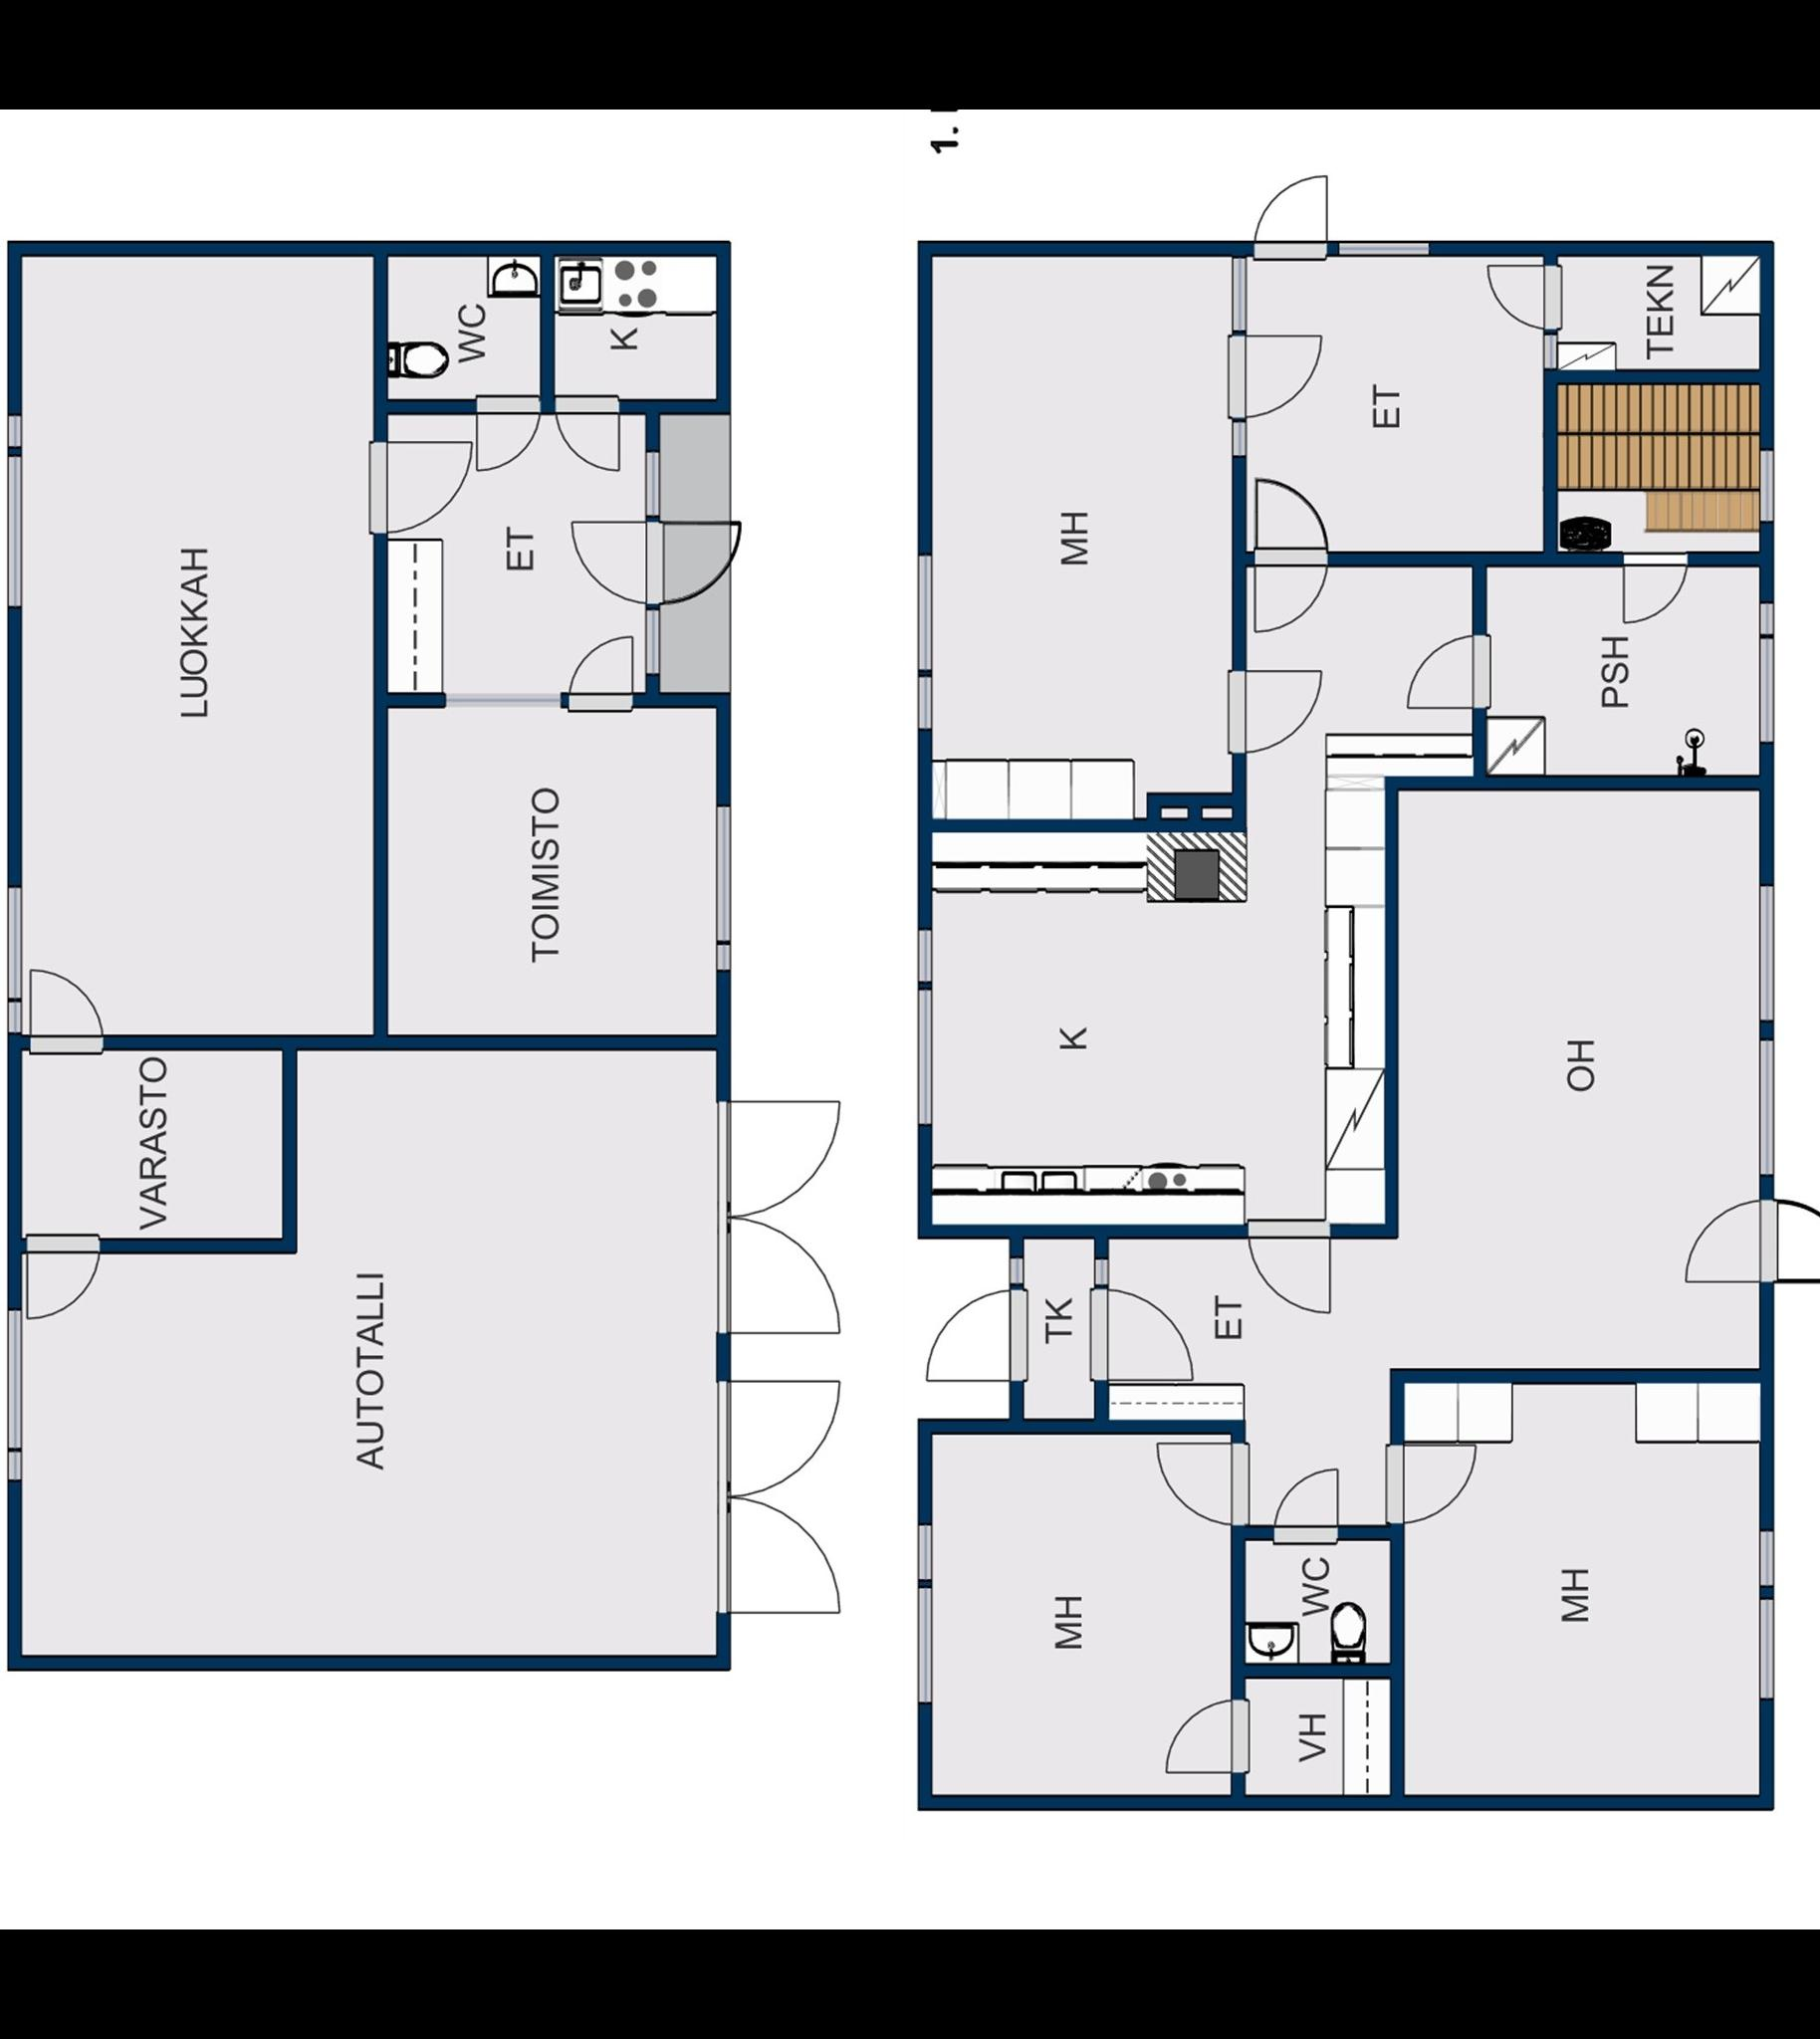bathroom: (385, 248, 539, 404), (1240, 1531, 1398, 1672)
door: (704, 1087, 849, 1224), (704, 1488, 841, 1626), (696, 1372, 840, 1502), (713, 1207, 847, 1345), (921, 1275, 1040, 1386), (353, 432, 474, 541), (1073, 1286, 1189, 1394), (631, 515, 745, 611), (1151, 1686, 1254, 1791), (1142, 1433, 1249, 1535), (1672, 1198, 1785, 1293), (1377, 1431, 1479, 1535), (566, 509, 668, 611), (1235, 1221, 1333, 1326), (7, 1224, 104, 1331), (1216, 659, 1323, 755), (1221, 325, 1319, 423), (1246, 174, 1342, 270), (25, 952, 109, 1063), (1393, 629, 1493, 718), (1240, 546, 1340, 634), (553, 629, 645, 722), (1606, 543, 1701, 630), (1249, 467, 1332, 564), (1748, 1184, 1820, 1294), (1268, 1465, 1351, 1549), (1486, 255, 1564, 344), (557, 381, 625, 478), (473, 399, 548, 464)
perimeter: (919, 237, 1785, 1814), (4, 234, 736, 1674)
window: (1744, 857, 1785, 1041), (1748, 1010, 1785, 1187), (903, 541, 945, 681), (699, 801, 740, 945), (1748, 1584, 1790, 1709), (429, 681, 569, 718), (0, 443, 28, 616), (903, 1575, 936, 1719), (908, 980, 935, 1140), (0, 1298, 26, 1456), (1751, 625, 1785, 750), (0, 868, 28, 1008), (1319, 228, 1437, 262), (1748, 430, 1780, 546), (1216, 242, 1253, 339), (1751, 1519, 1790, 1602), (636, 444, 671, 523), (903, 1505, 935, 1589), (634, 601, 664, 687), (908, 917, 943, 989), (1744, 574, 1780, 639), (0, 987, 28, 1045), (0, 395, 25, 458), (915, 671, 938, 738), (0, 1442, 28, 1493), (703, 934, 733, 980), (1230, 409, 1254, 460)
